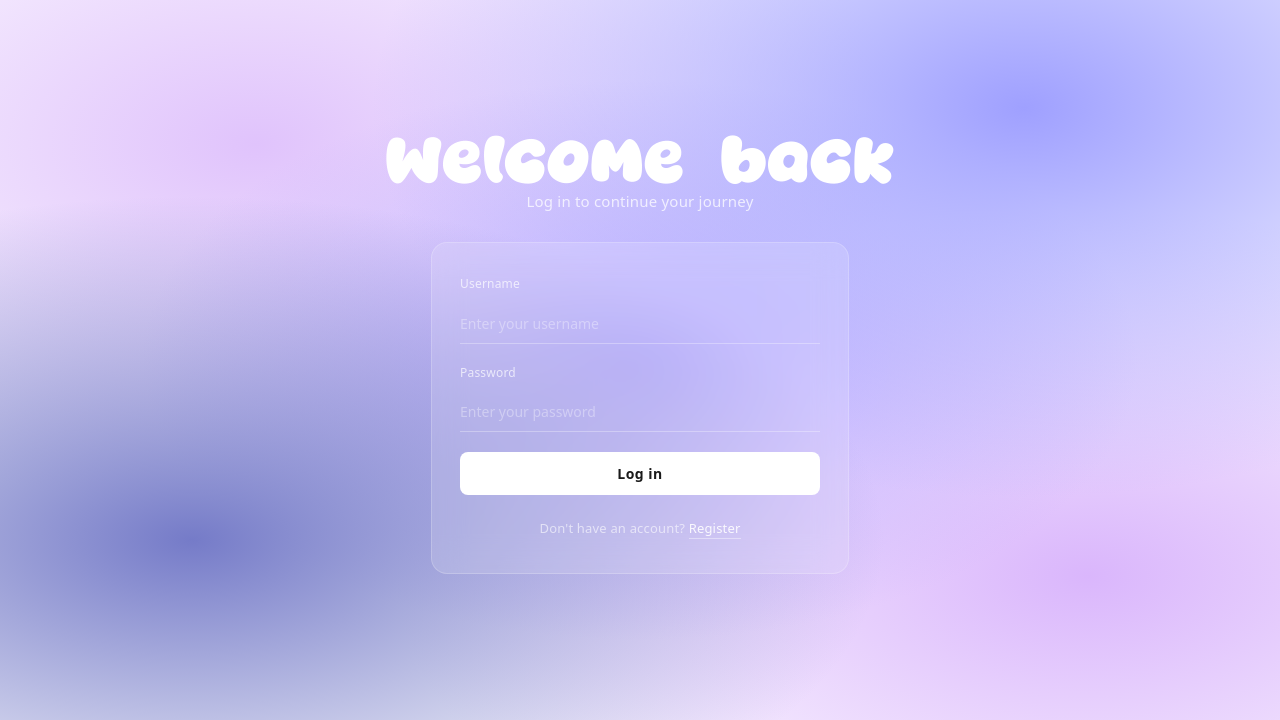
Test case: Routing › navigates between login and register via links
Expected: the heading "Welcome back" is shown, [385,146,895,172]
Step 1. Click the link "Register" → (715, 529), box [689,519,740,539]
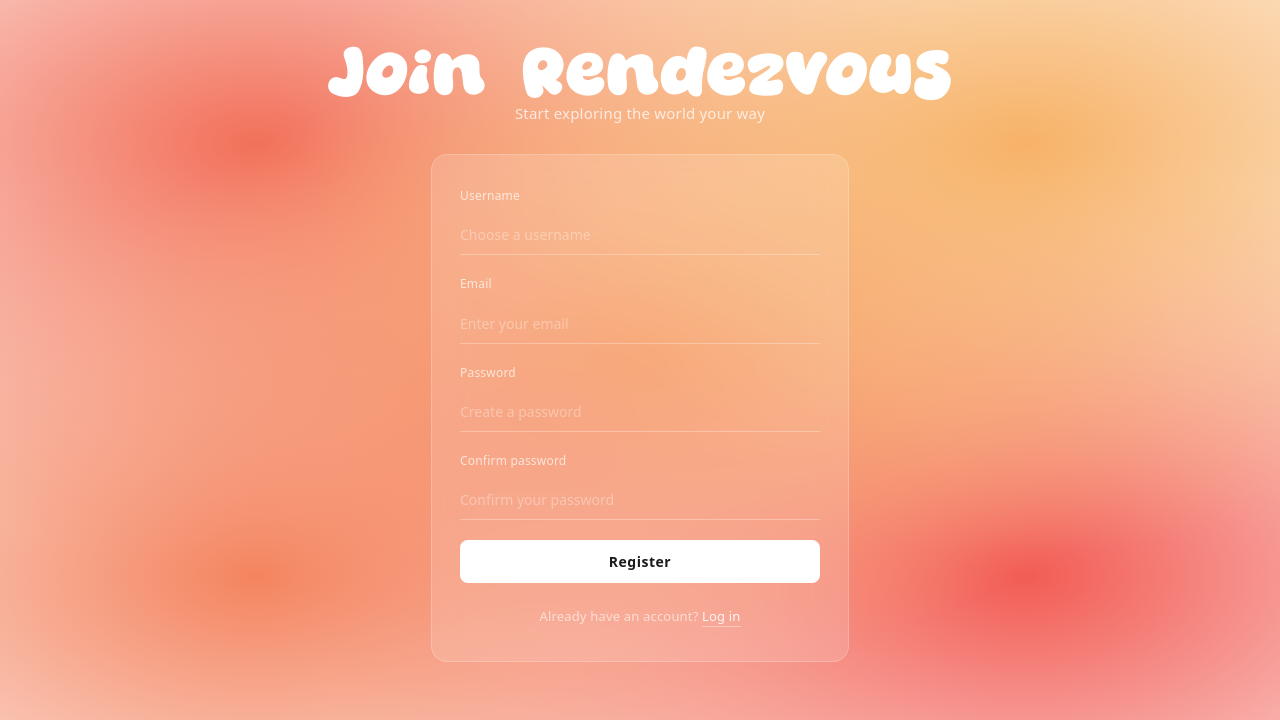
Result: the heading "Join Rendezvous" is shown at [327,58,953,84]
